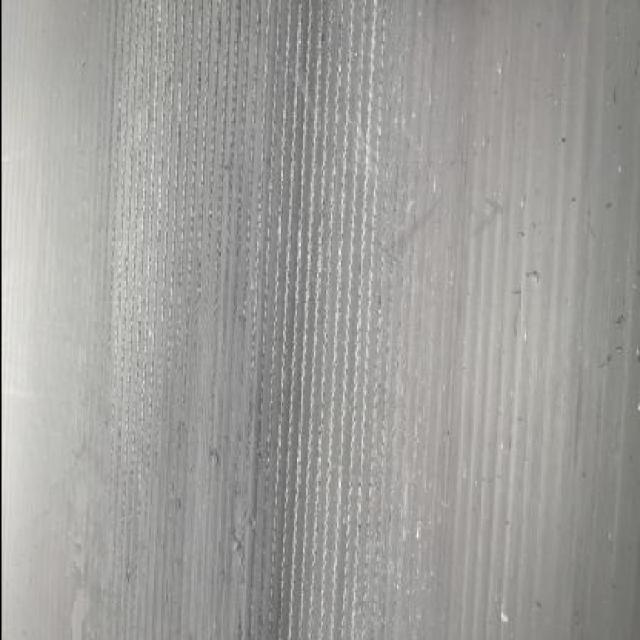Wear: (68, 0, 422, 640)
